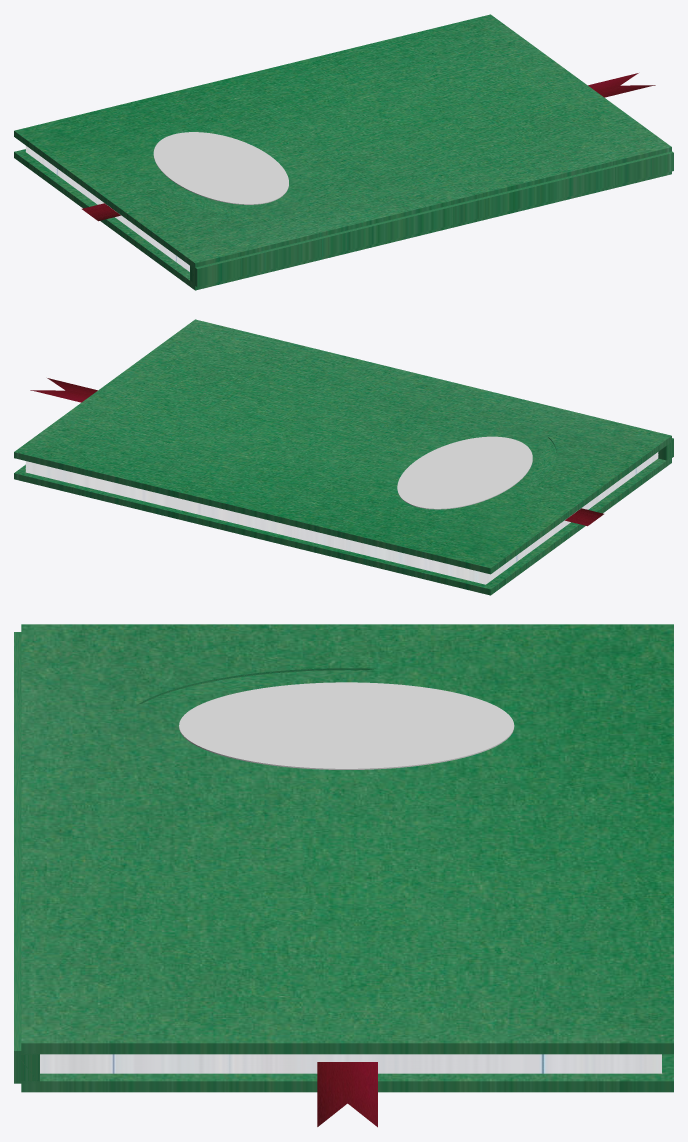
File: school diary.fbx
3 renders of one model, top to bottom at view 1: azimuth 30°, elevation 25°; view 2: azimuth 150°, elevation 25°; view 3: azimuth 270°, elevation 25°, orthographic. The views are drawn at different scales.
Parts seen in each view (by area): view 1: Plane.010, Plane.011, Cylinder, Plane, Plane.001; view 2: Plane.010, Cylinder, Plane, Plane.001; view 3: Plane.010, Cylinder, Plane, Plane.011, Plane.001.
Boxes of the visible parts, bbox=[...] form: Plane.010: bbox=[14, 14, 671, 290]; Plane.011: bbox=[190, 151, 673, 287]; Cylinder: bbox=[153, 132, 288, 204]; Plane: bbox=[25, 145, 189, 271]; Plane.001: bbox=[82, 73, 655, 221]; Plane.010: bbox=[14, 319, 671, 595]; Cylinder: bbox=[397, 436, 532, 509]; Plane: bbox=[25, 452, 658, 584]; Plane.001: bbox=[30, 378, 603, 526]; Plane.010: bbox=[21, 624, 673, 1092]; Cylinder: bbox=[179, 682, 514, 769]; Plane: bbox=[40, 1054, 661, 1073]; Plane.011: bbox=[14, 632, 39, 1083]; Plane.001: bbox=[317, 1062, 377, 1127].
Size of the model in its own units: 378 by 18.03 by 215.
Materials: 5 (4 with a texture image).
